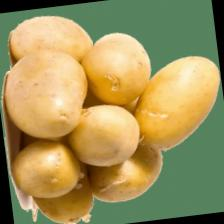potato: (126, 53, 224, 153), (0, 43, 93, 143), (77, 28, 155, 110), (5, 10, 95, 78), (64, 100, 144, 170), (5, 136, 84, 202)
